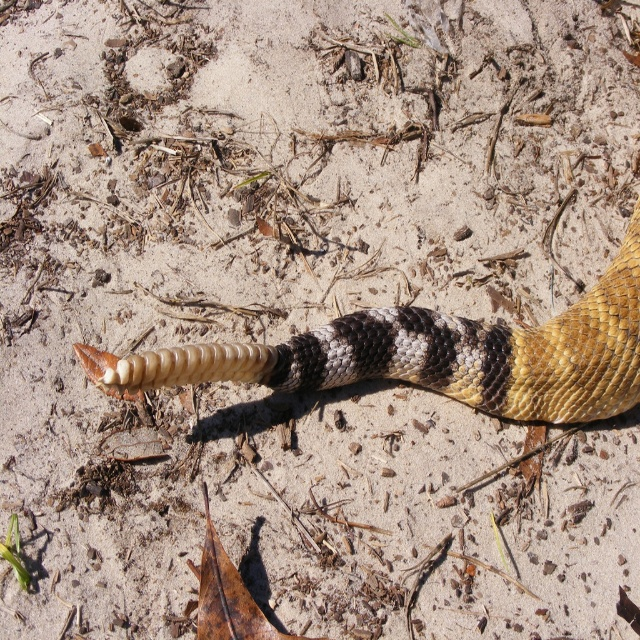Snake: (74, 197, 640, 426)
